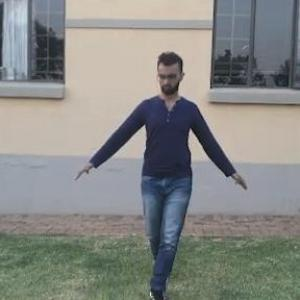land: (74, 33, 243, 288)
